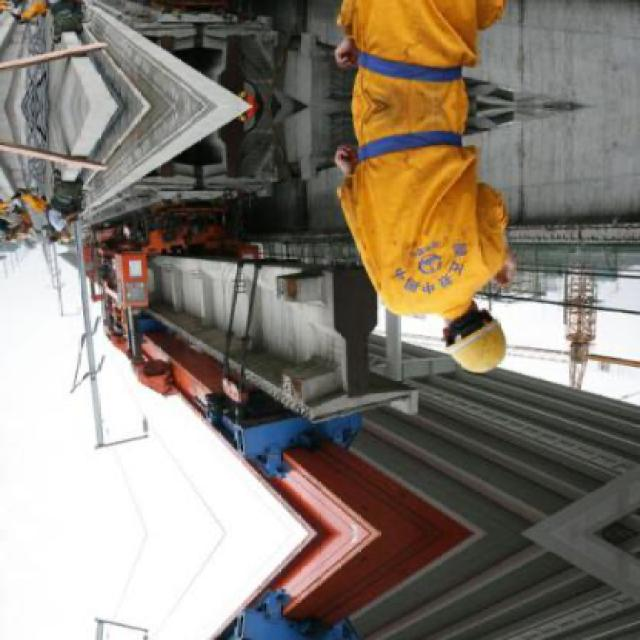con casco: (410, 255, 512, 387)
